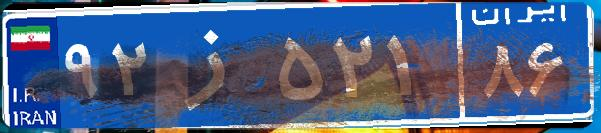1: (385, 28, 445, 110)
2: (330, 28, 385, 110), (110, 28, 158, 105)
5: (273, 28, 330, 110)
6: (525, 38, 570, 115)
8: (475, 38, 525, 113)
9: (57, 26, 110, 107)
ز: (158, 15, 273, 115)
